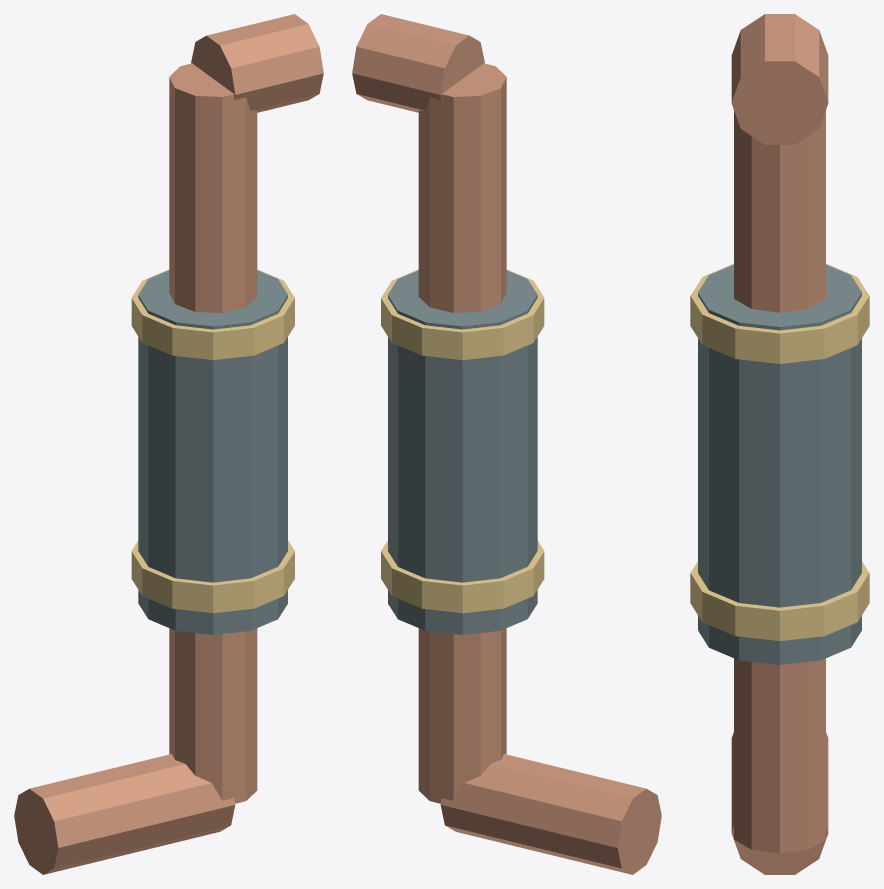
File: exhaust_stack.glb
3 renders of one model, left to right at view 1: azimuth 30°, elevation 25°; view 2: azimuth 150°, elevation 25°; view 3: azimuth 270°, elevation 25°, orthographic. The views are drawn at different scales.
Visible parts, largest first — view 1: exhaust_stack; view 2: exhaust_stack; view 3: exhaust_stack.
Boxes of the visible parts, box(x1,y1,x2,y2) form: exhaust_stack: box(14, 14, 323, 874); exhaust_stack: box(352, 14, 661, 874); exhaust_stack: box(690, 14, 869, 874).
Bounding box in the file's own units: 0.45 × 1.27 × 0.24.
